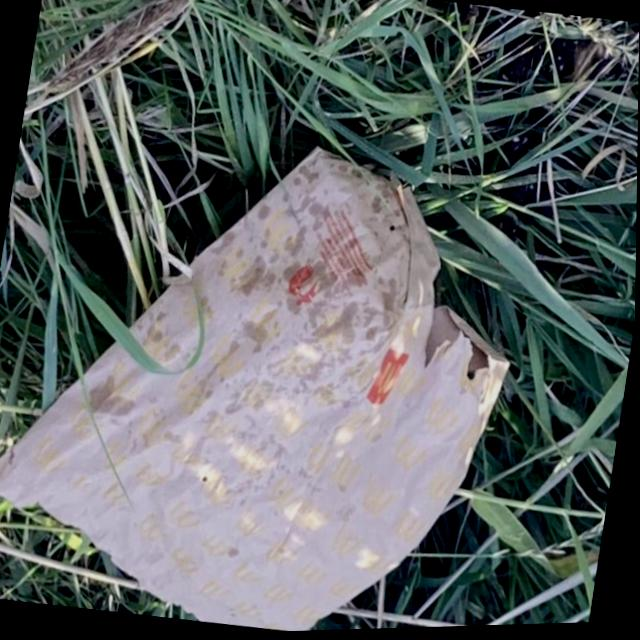Paper: (0, 103, 543, 640)
